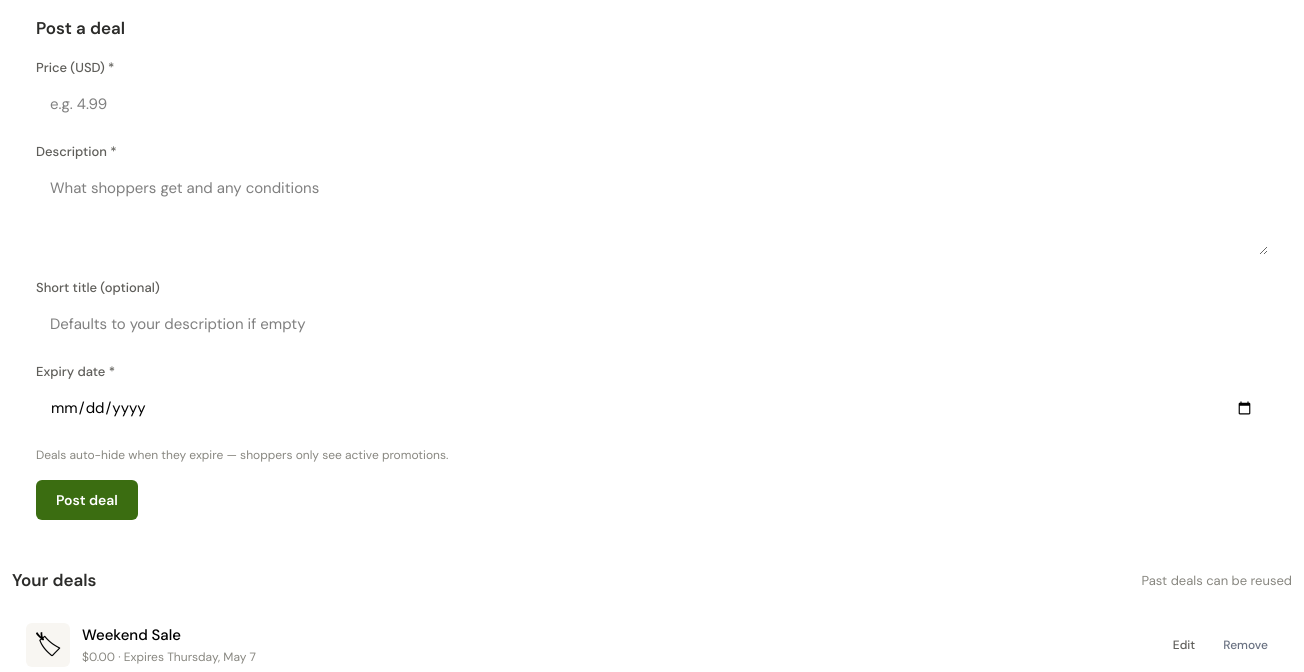
Test: ManageDealsClient component › shows validation error in edit form when price is cleared and saved
Expected: the text "Weekend Sale" is shown, [82, 625, 181, 645]
Click the button "Edit": (1184, 645) [1163, 632, 1205, 658]
(page scrolled)
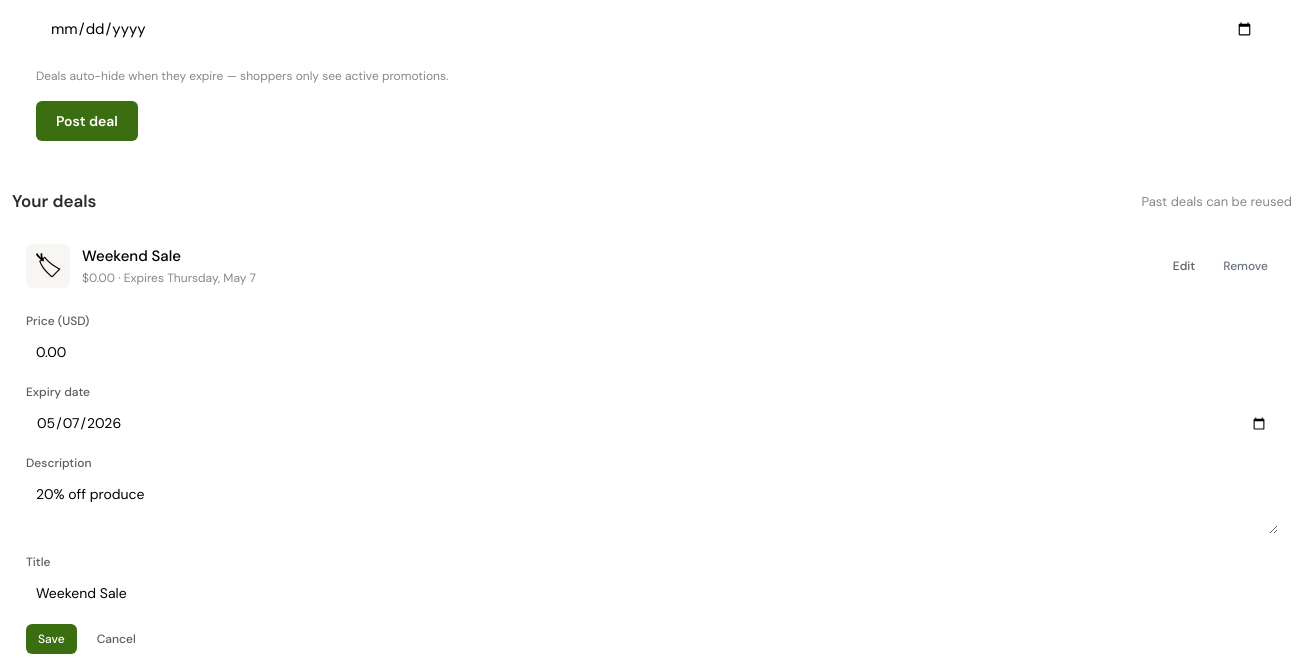
The edit form renders a "Price (USD)" label — use it to find the input
Clear the number field: (652, 352) [26, 334, 1278, 371]
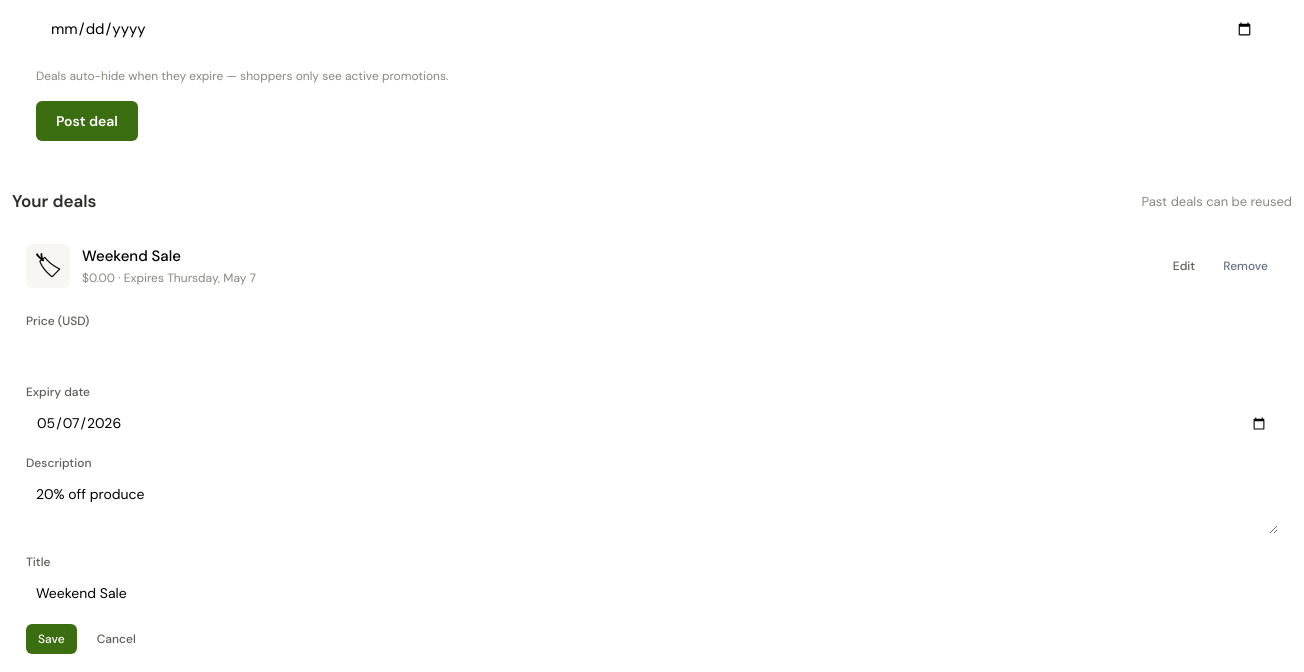
Click the button "Save": (51, 639) [26, 624, 77, 654]
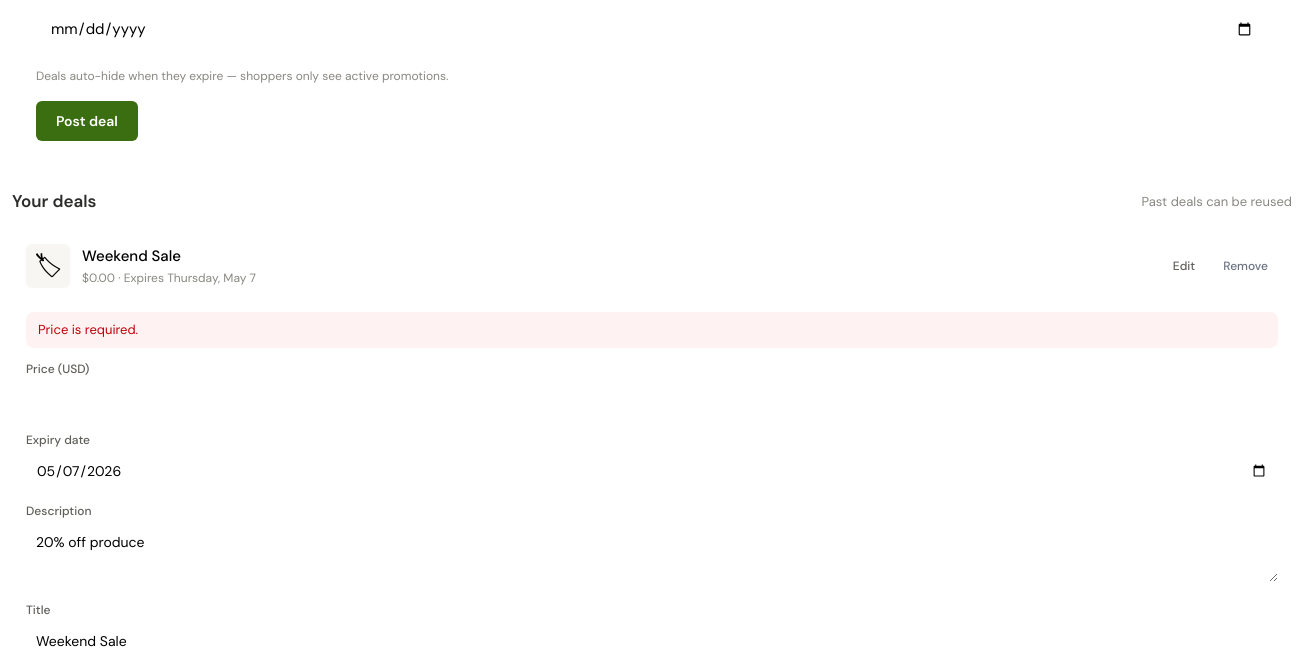
Expected: the text "Price is required." is shown, [26, 312, 1278, 348]
